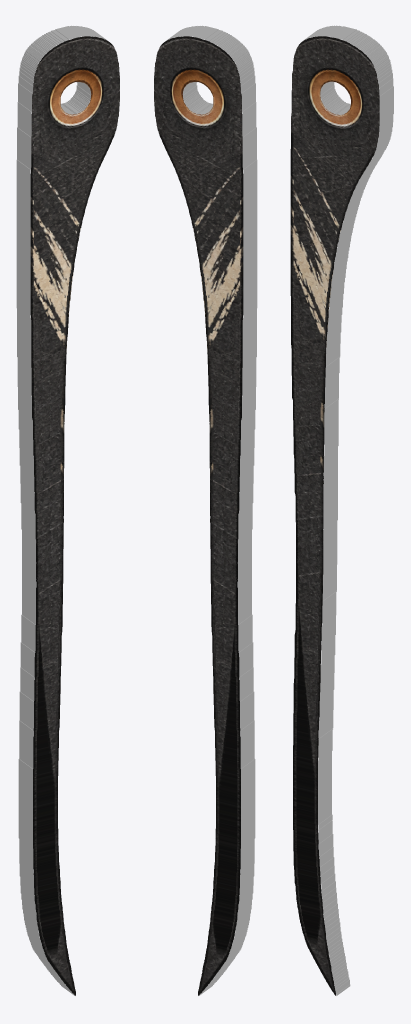
The model's file is LowerLeg.glb.
The picture shows the model from 3 angles, left to right: view 1: azimuth 30°, elevation 25°; view 2: azimuth 150°, elevation 25°; view 3: azimuth 330°, elevation 25°; orthographic projection.
Visible parts, largest first — view 1: PaperVolume; view 2: PaperVolume; view 3: PaperVolume.
Boxes of the visible parts, box(x1,y1,x2,y2) form: PaperVolume: box(16, 25, 119, 995); PaperVolume: box(154, 25, 257, 995); PaperVolume: box(290, 25, 393, 995).
Bounding box in the file's own units: 0.307 × 3 × 0.08.
3 materials, 2 textured.
